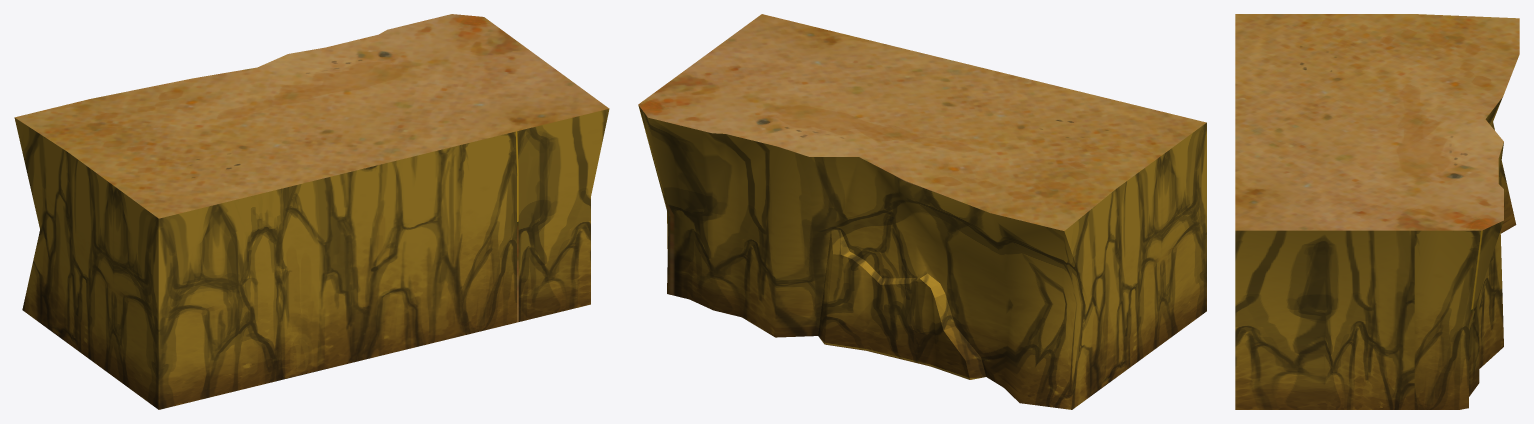
Rendered from WallPiece.FBX.
3 renders of one model, left to right at view 1: azimuth 30°, elevation 25°; view 2: azimuth 150°, elevation 25°; view 3: azimuth 270°, elevation 25°, orthographic.
Parts seen in each view (by area): view 1: Wall Piece; view 2: Wall Piece; view 3: Wall Piece.
Boxes of the visible parts, left/top/right/bottom form: Wall Piece: left=14, top=14, right=609, bottom=409; Wall Piece: left=638, top=14, right=1206, bottom=409; Wall Piece: left=1235, top=14, right=1519, bottom=409.
Size of the model in its own units: 535 by 223 by 297.
